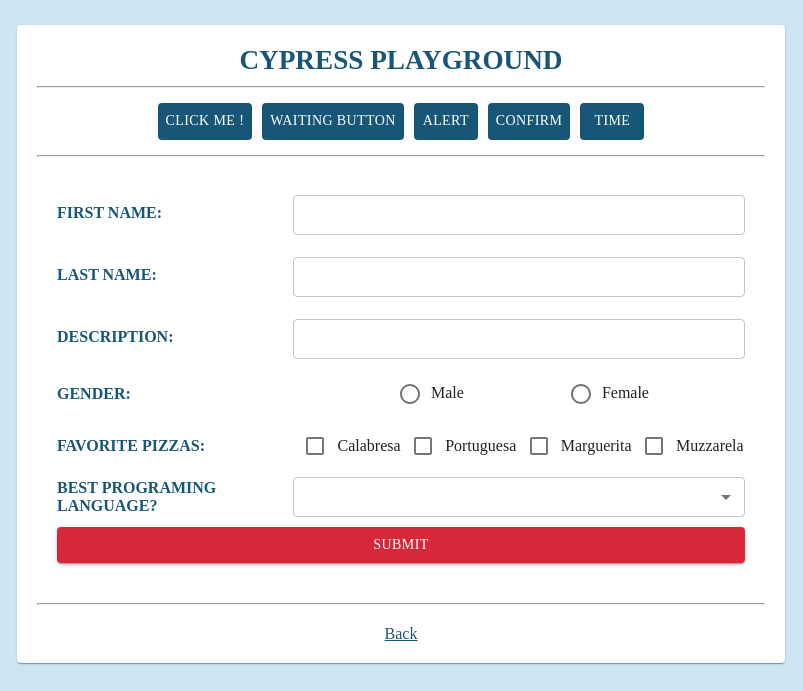
Test: Time › travels back in  time
Step 1. Click the button "Time" → {"x": 612, "y": 122}, box left=580, top=103, right=644, bottom=140
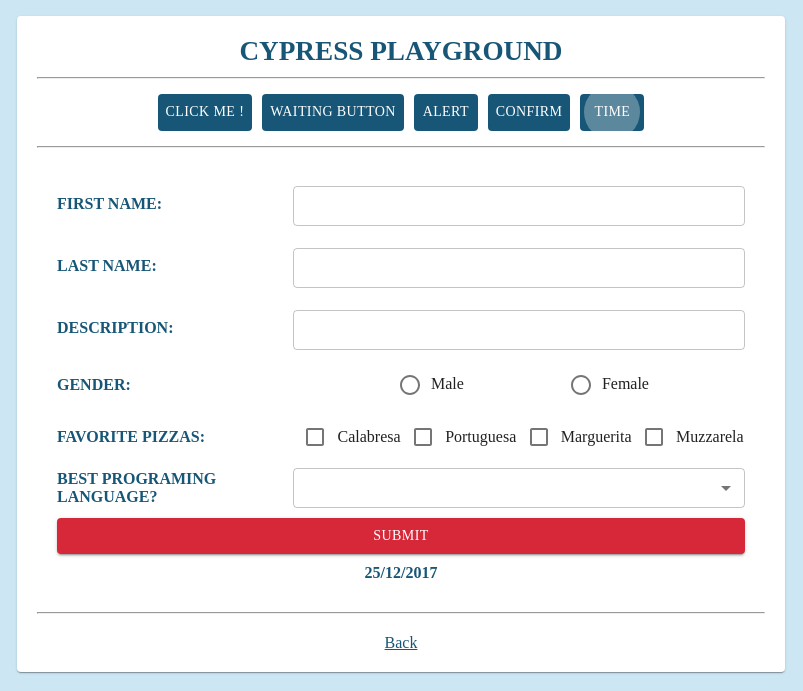
Expected: the label with id "time-result" reads "25/12/2017", left=365, top=564, right=438, bottom=582
